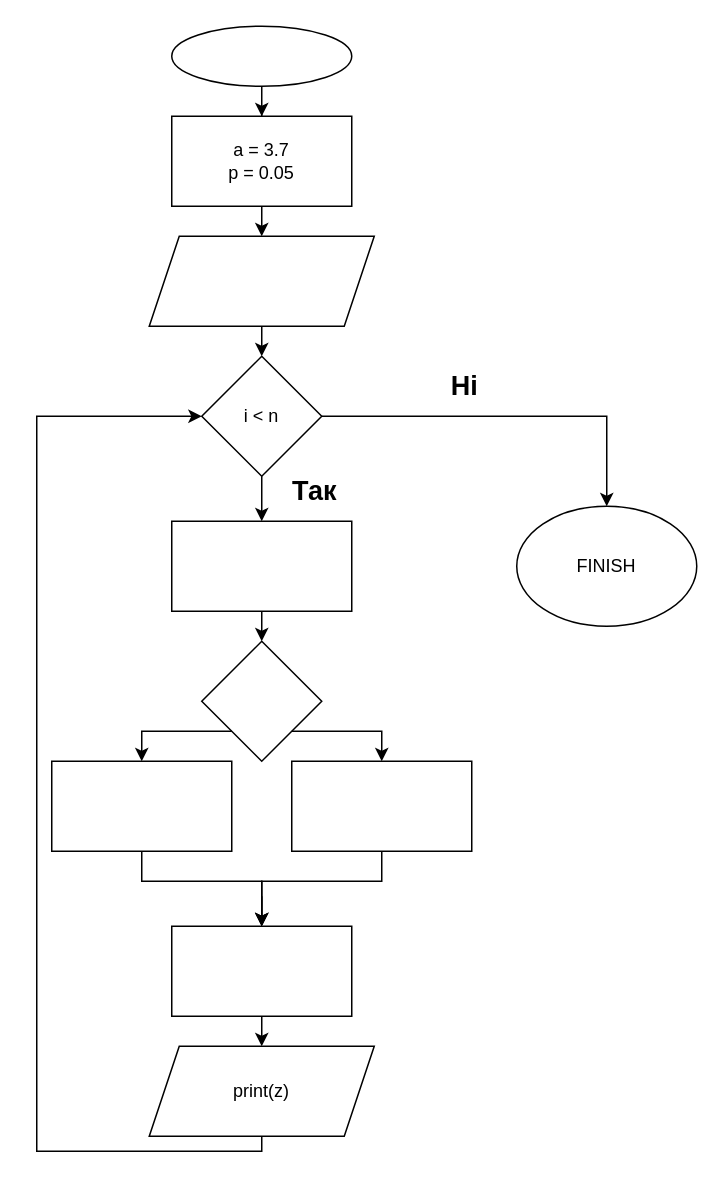
This 723x1190 diagram has some shape labels left out. Each missing label, with the centre of its shape:
i = float(input("i = ")) n = float(input("n = ")): point (261, 280)
START: point (261, 55)
